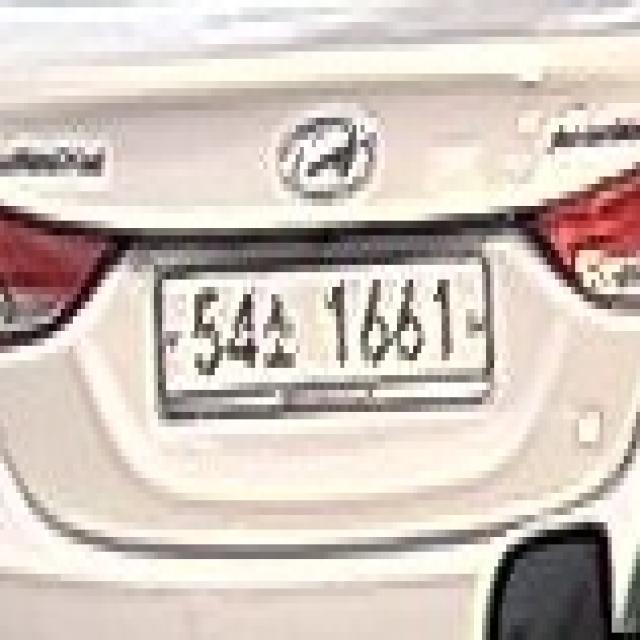1: (425, 250, 458, 383), (320, 272, 348, 361)
4: (227, 272, 259, 375)
5: (186, 258, 227, 382)
6: (356, 265, 389, 368), (393, 265, 425, 368)
license_plate: (150, 236, 494, 420)
so: (251, 272, 296, 368)
